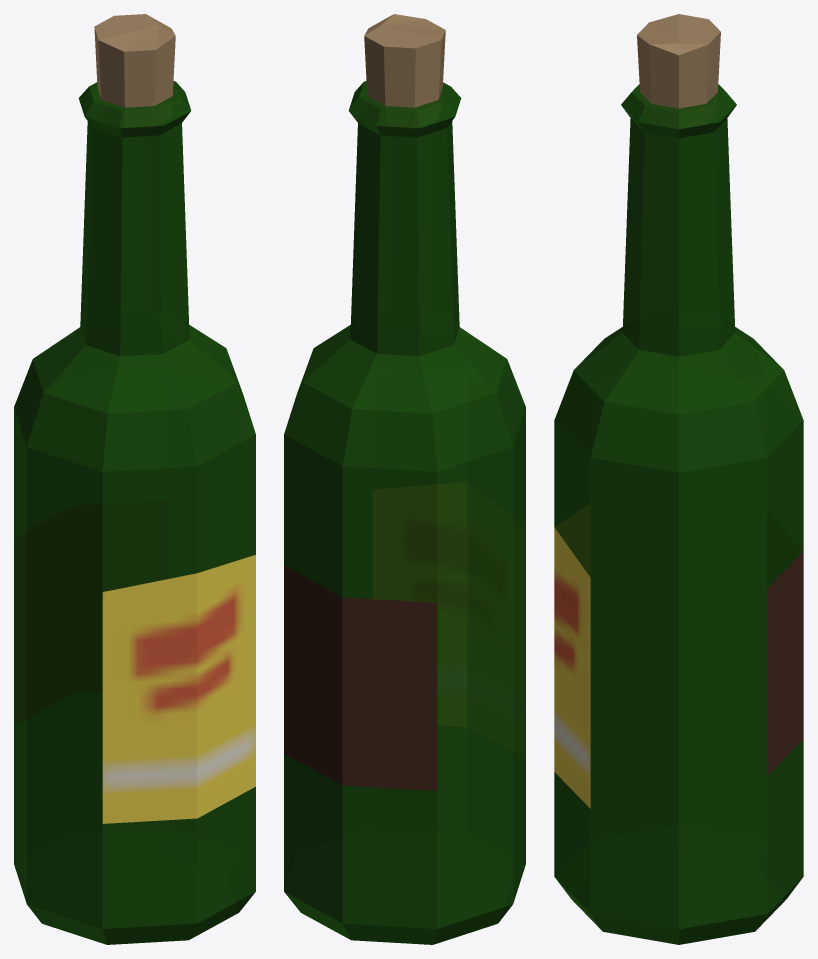
File: SM_Prop_Bottle_Large_06_GREEN_GLASS.obj
3 views of the same model, side by side, from view 1: azimuth 30°, elevation 25°; view 2: azimuth 150°, elevation 25°; view 3: azimuth 270°, elevation 25° (orthographic).
Visible parts, largest first — view 1: SM_Prop_Bottle_Large_06_GREEN_GLASS_0, SM_Prop_Bottle_Large_06_GREEN_GLASS_1; view 2: SM_Prop_Bottle_Large_06_GREEN_GLASS_0, SM_Prop_Bottle_Large_06_GREEN_GLASS_1; view 3: SM_Prop_Bottle_Large_06_GREEN_GLASS_0, SM_Prop_Bottle_Large_06_GREEN_GLASS_1.
Boxes of the visible parts, <box> form: SM_Prop_Bottle_Large_06_GREEN_GLASS_0: <box>14,81,255,944</box>; SM_Prop_Bottle_Large_06_GREEN_GLASS_1: <box>94,14,255,823</box>; SM_Prop_Bottle_Large_06_GREEN_GLASS_0: <box>284,81,525,944</box>; SM_Prop_Bottle_Large_06_GREEN_GLASS_1: <box>284,14,445,790</box>; SM_Prop_Bottle_Large_06_GREEN_GLASS_0: <box>554,84,803,944</box>; SM_Prop_Bottle_Large_06_GREEN_GLASS_1: <box>554,14,803,808</box>.
Bounding box in the file's own units: 0.1224 × 0.4702 × 0.1224.
2 materials, 1 textured.
